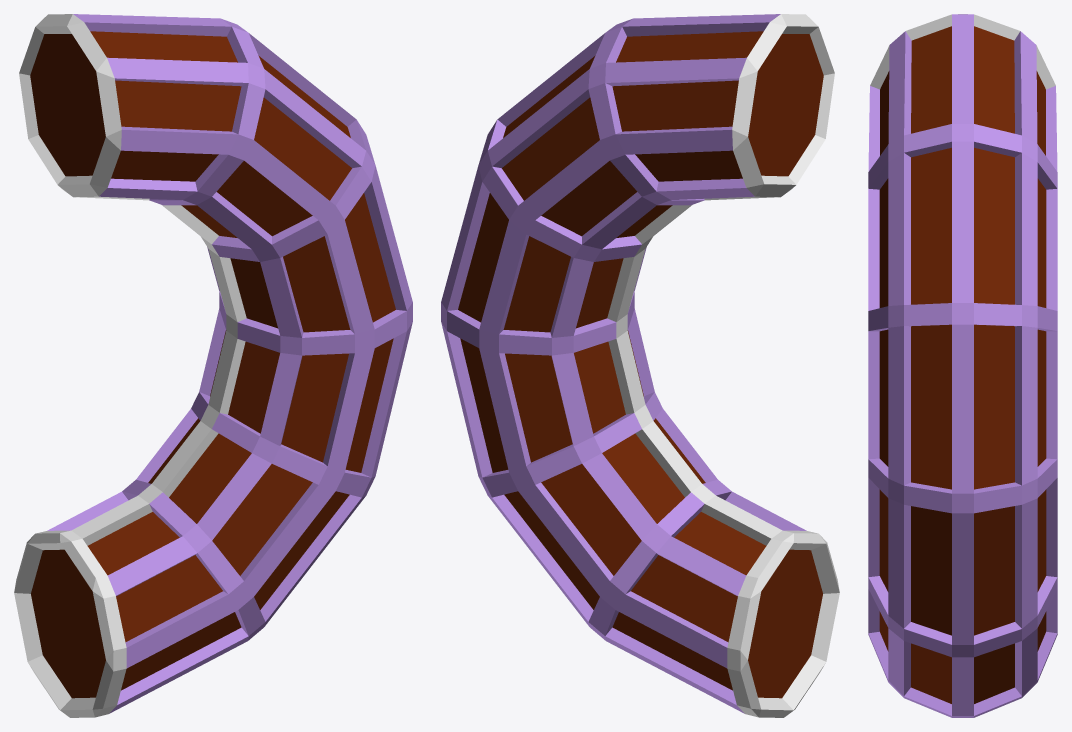
The model's file is CupHandle.fbx.
3 views of the same model, side by side, from view 1: azimuth 30°, elevation 25°; view 2: azimuth 150°, elevation 25°; view 3: azimuth 270°, elevation 25° (orthographic). The views are drawn at different scales.
Parts seen in each view (by area): view 1: CupHandle; view 2: CupHandle; view 3: CupHandle.
Part boxes in pixels (x1,y1,x2,y2): CupHandle: (14,14,412,717); CupHandle: (441,14,839,717); CupHandle: (868,14,1057,717).
Bounding box in the file's own units: 28.49 × 54.97 × 13.99.
